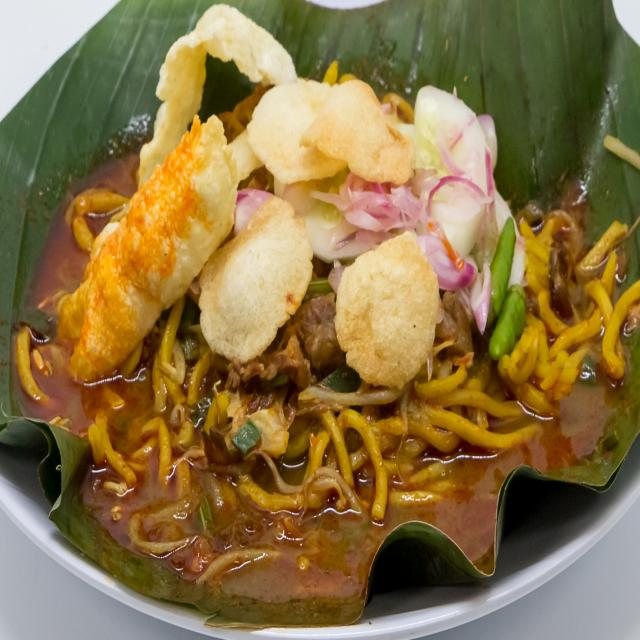Mie-Aceh: (31, 4, 630, 568)
